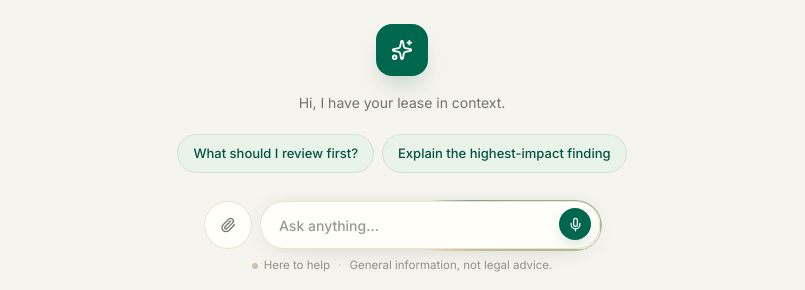
Test: AssistantConsole › marks each answer with the assistant avatar and offers to copy it
Click the button "What should I review first?": (276, 153) [178,134,374,173]
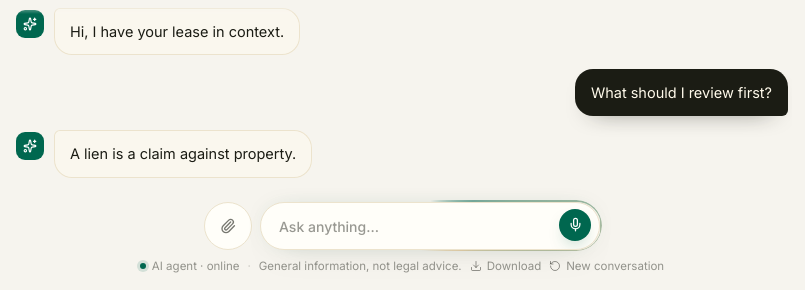
Expected: the element with class "ac-msg-user" is shown, [575,69,788,116]
Expected: the text "A lien is a claim against property." is shown, [70,142,296,166]
Expected: the number of elements with class "ac-avatar" is 2, [16,10,44,38]; [16,132,44,160]
